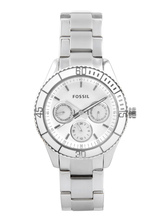watch: (33, 10, 139, 214)
